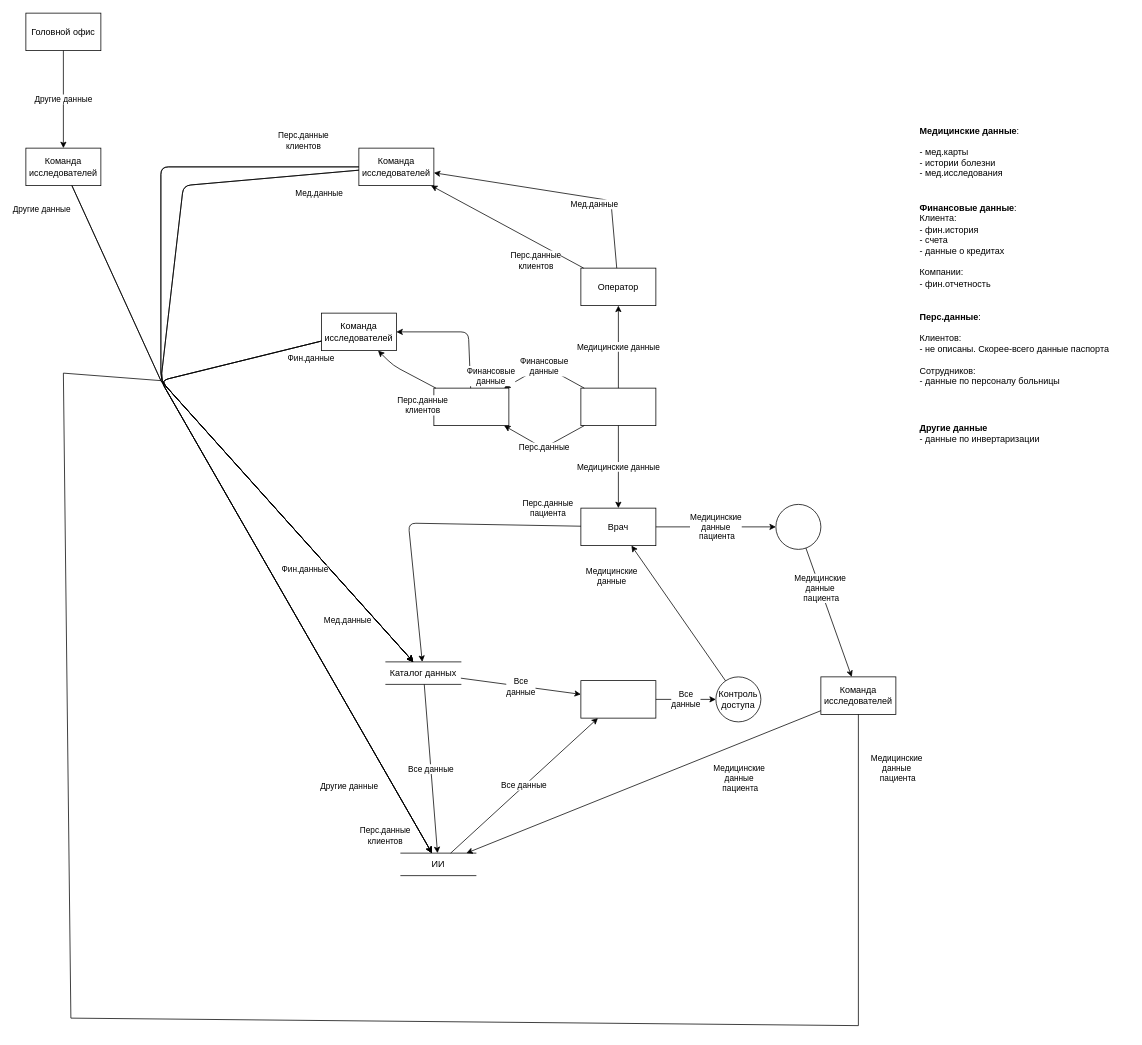
The diagram is 1142 pixels wide and 1045 high, and some of its shapes have lost their labels. Here are the shapes that lost their labels. From the top down, the centre of each, then its label:
point (471, 406): Банк
point (618, 406): Клиент
point (798, 526): Лечение
point (618, 699): Система контроля доступа
